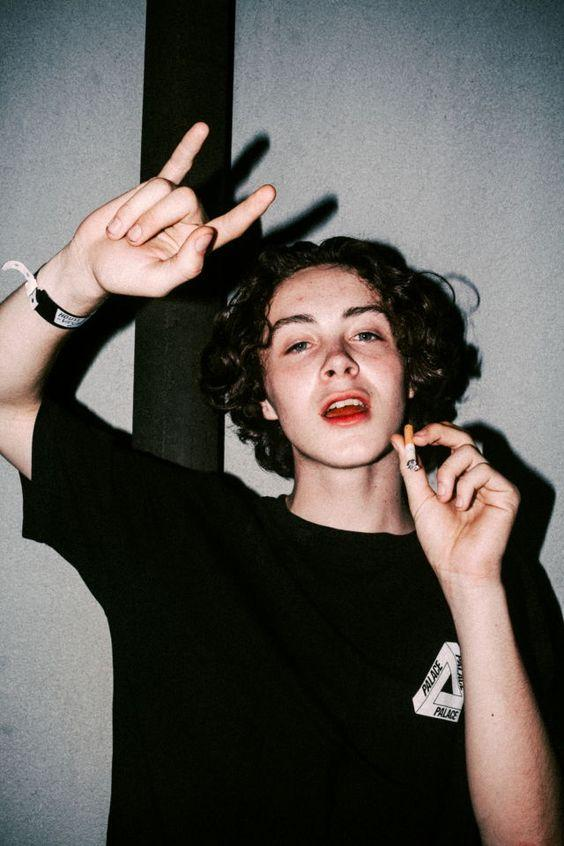cigarette: (403, 423, 420, 472)
